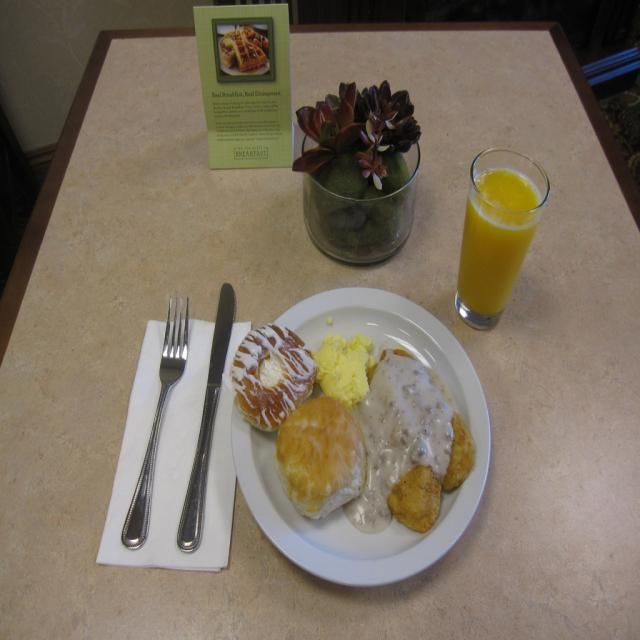non-organic waste: (220, 292, 498, 588)
